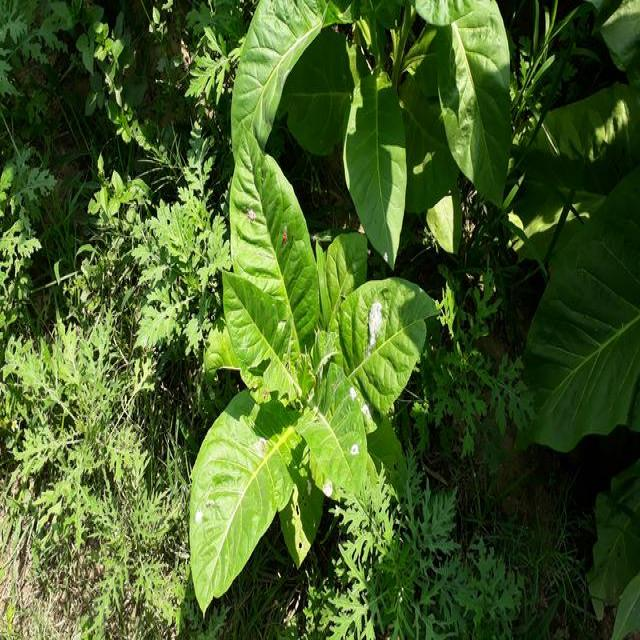crop: (182, 137, 428, 608)
